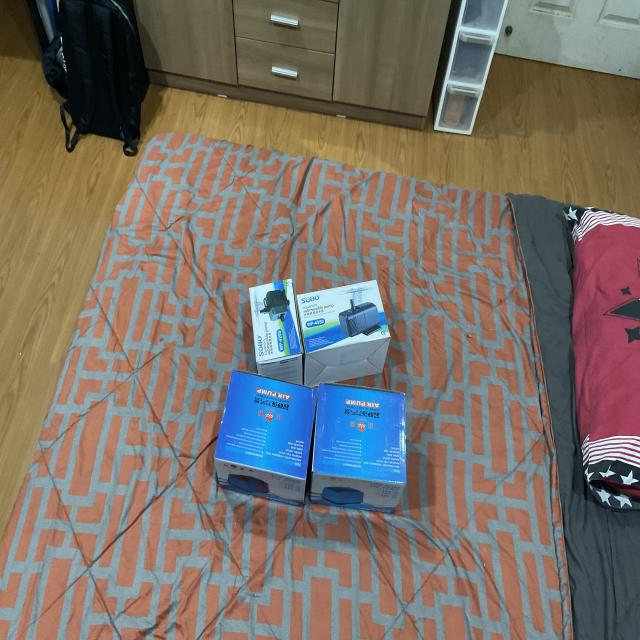SOBO_WP_4200: (299, 259, 411, 399), (241, 264, 315, 386)
YAMANO_LPP_20: (313, 370, 420, 540), (212, 364, 318, 530)
